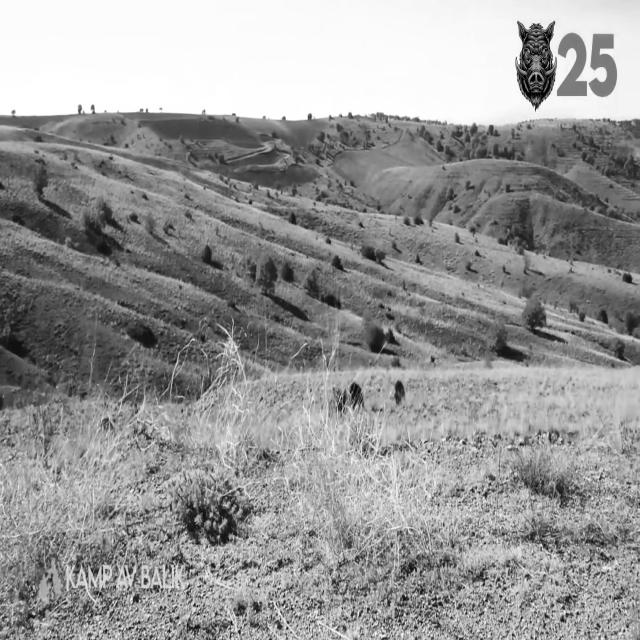boar: (515, 21, 556, 110), (333, 382, 364, 412), (350, 381, 364, 408), (395, 380, 406, 404)
